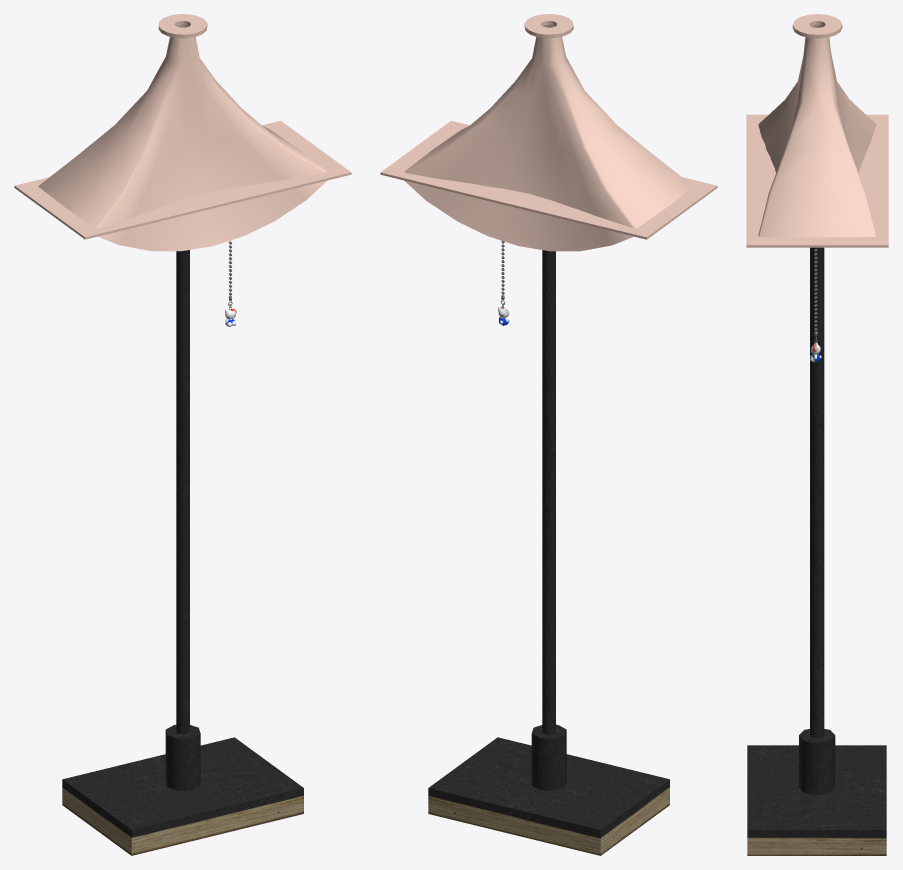
File: AltecLamp - Pink.glb
3 views of the same model, side by side, from view 1: azimuth 30°, elevation 25°; view 2: azimuth 150°, elevation 25°; view 3: azimuth 270°, elevation 25° (orthographic).
Parts seen in each view (by area): view 1: AltecLampPink; view 2: AltecLampPink; view 3: AltecLampPink.
Part boxes in pixels (x1,y1,x2,y2): AltecLampPink: [14, 14, 351, 855]; AltecLampPink: [380, 14, 717, 855]; AltecLampPink: [746, 14, 888, 855].
Size of the model in its own units: 0.5915 by 1.67 by 0.2719.
Materials: 2 (2 with a texture image).
